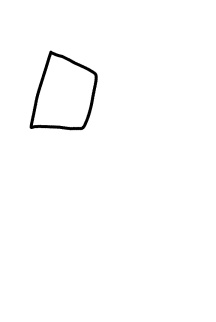Square: (26, 46, 101, 137)
